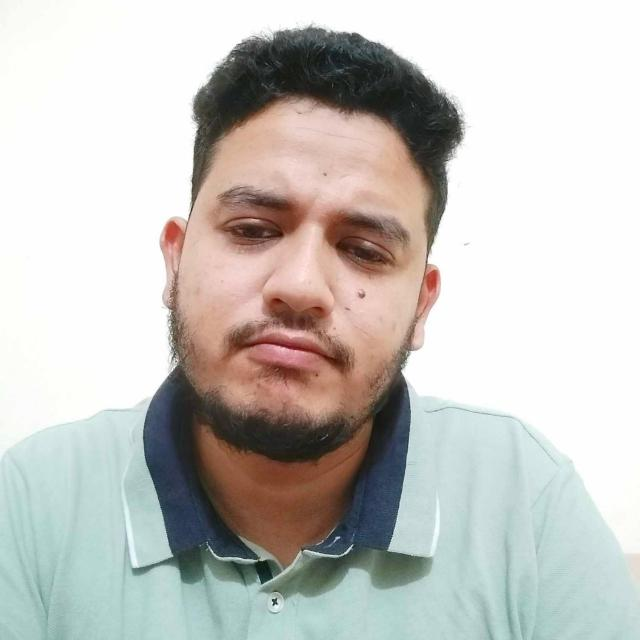Sad: (144, 129, 469, 481)
